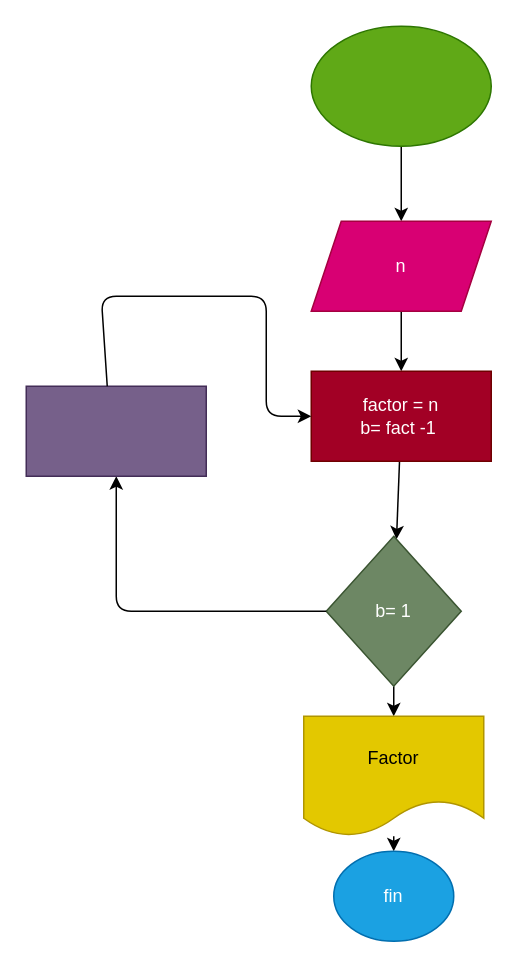
Some shapes in this 518 by 968 pixel diagram are drawn without their labels. The shapes that lost their labels are listed below. From the top down, each one's box as (x1, y1, x2, y2) in pixels, then its label:
(310, 25, 491, 146): Inicio
(25, 385, 206, 476): b=b-1
